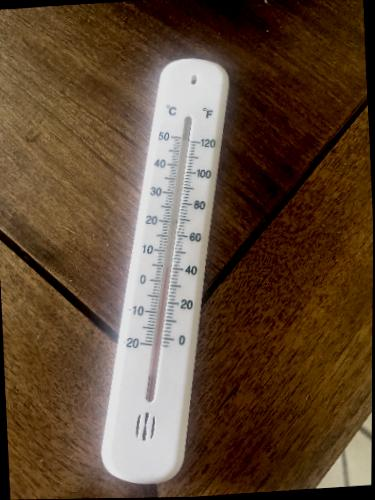thermo: (97, 52, 246, 488)
